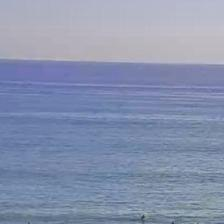surfer: (139, 214, 146, 220), (168, 220, 176, 223), (193, 222, 200, 224), (25, 222, 31, 223)
